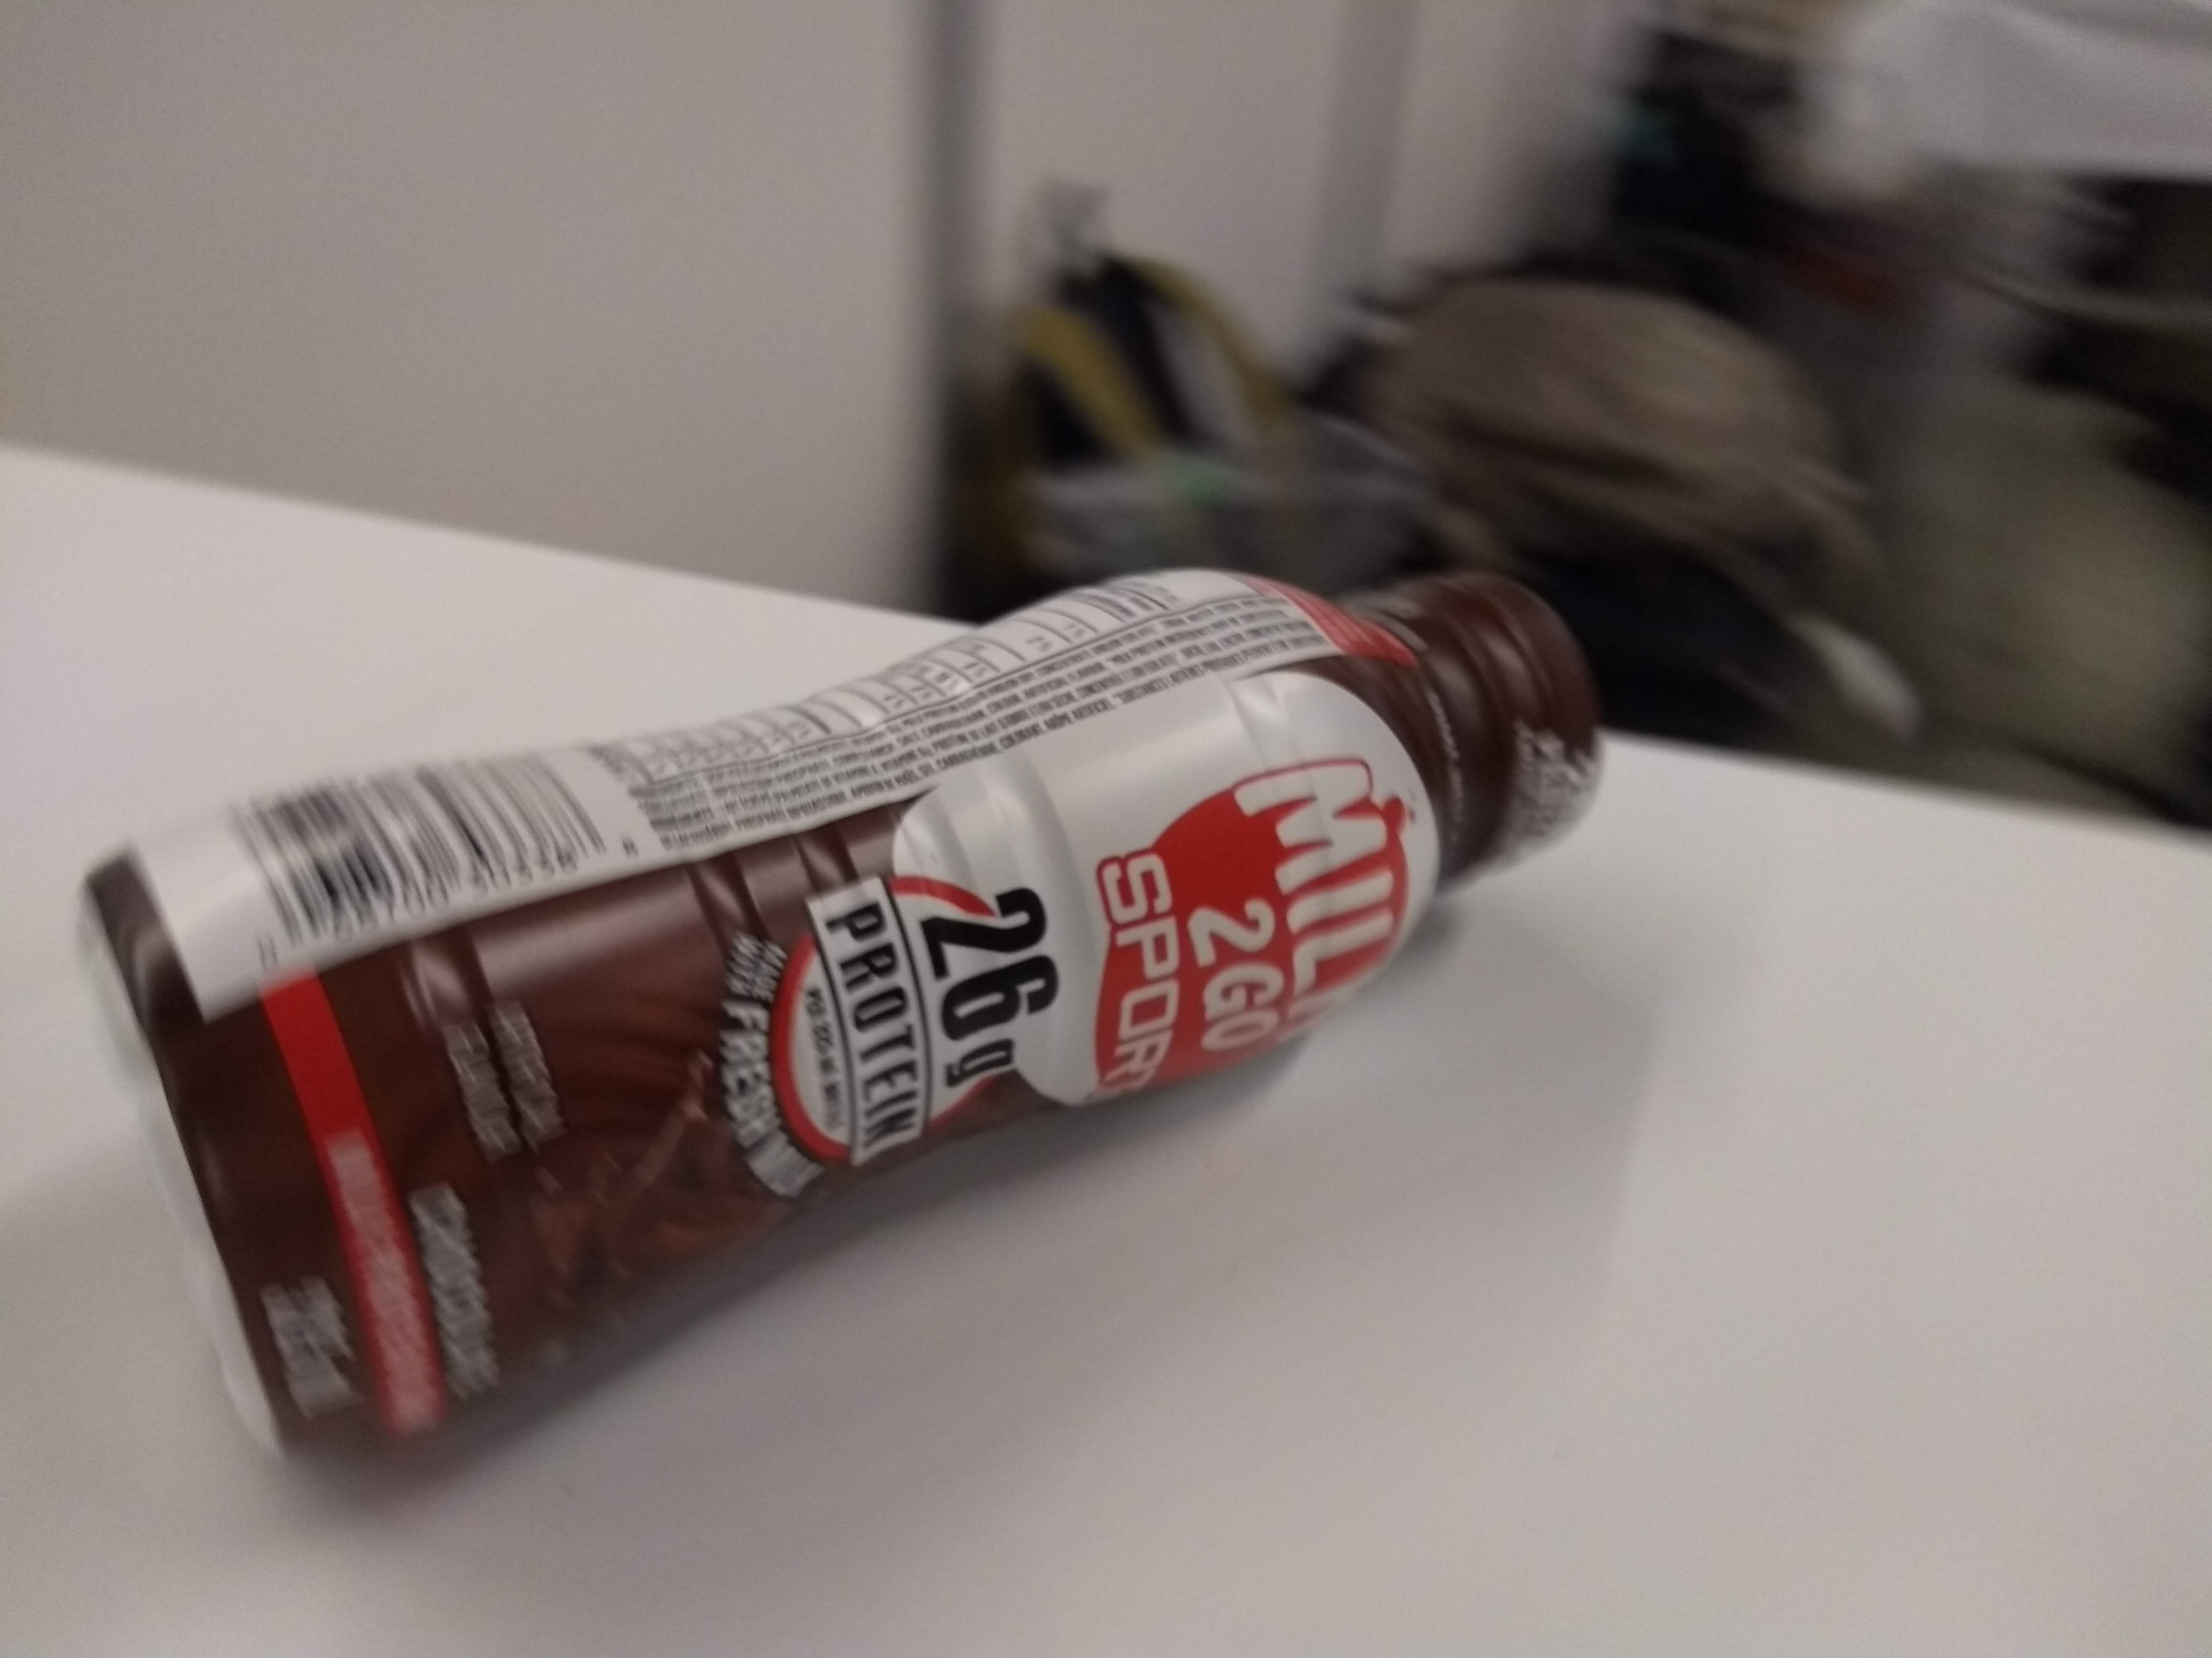chocolate_drink: (54, 549, 1615, 1475)
